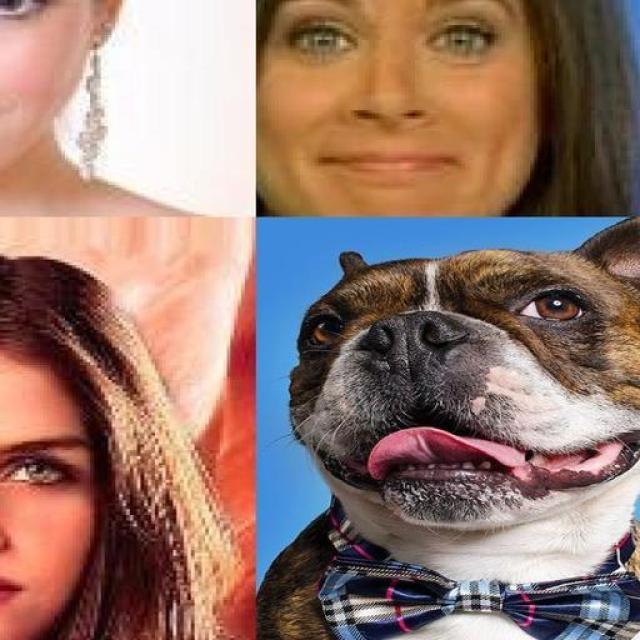bareface: (271, 0, 530, 216)
